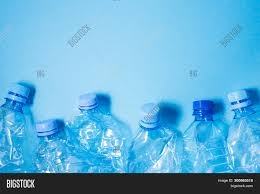plastic: (69, 88, 127, 174), (122, 99, 186, 174), (178, 90, 231, 173), (219, 84, 260, 174), (1, 78, 33, 175), (25, 115, 76, 174)
